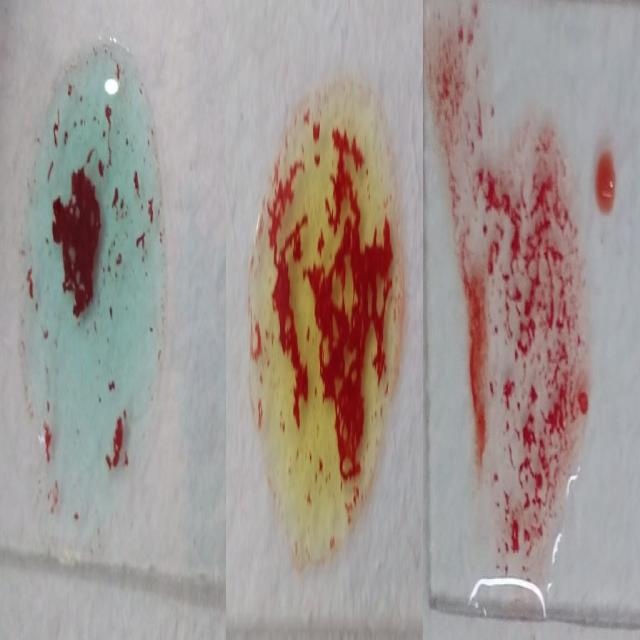A: (31, 39, 160, 552)
B: (253, 56, 402, 580)
D: (459, 121, 593, 599)
